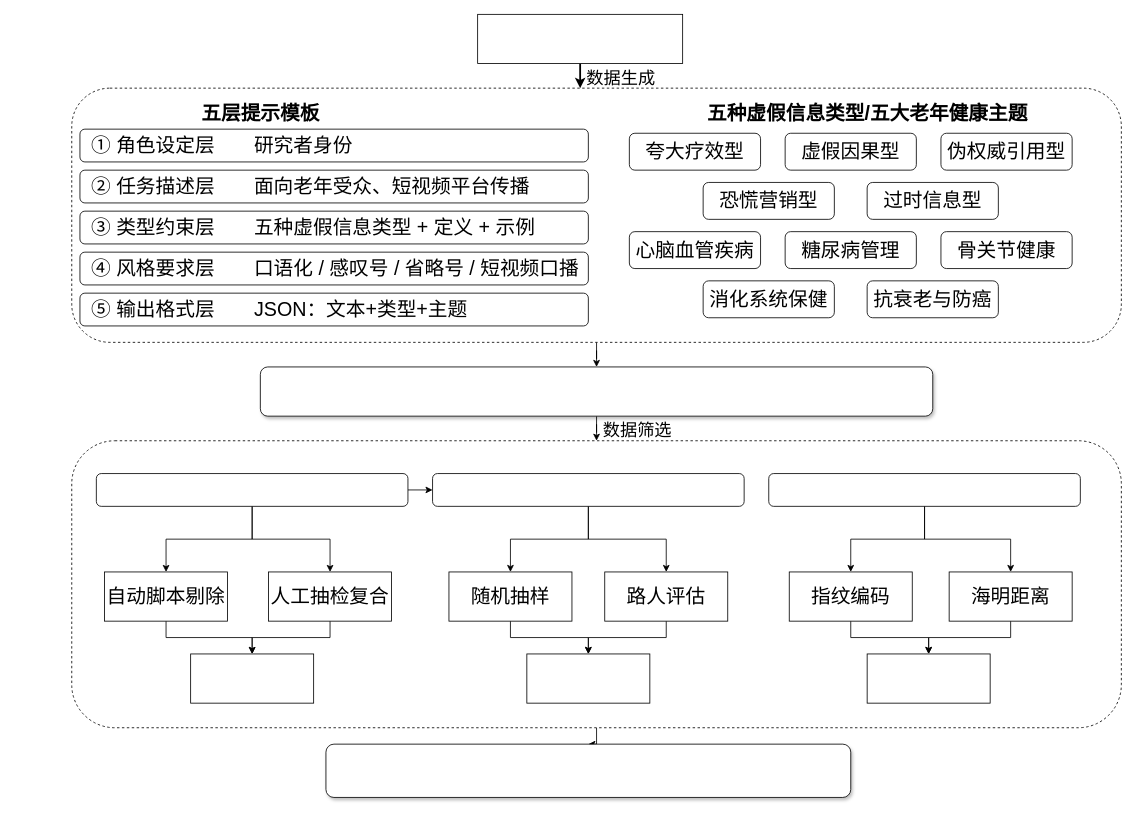
Some shapes in this 1136 by 818 pixel diagram are drawn without their labels. Here are the shapes that lost their labels. From the top down, the centre of each, then its label:
At pixel 580 39: "五种 LLM 生成源".
At pixel 597 392: "原 始 合 成 文 本 池".
At pixel 252 489: "① 内 容 有 效 性 筛 选".
At pixel 588 489: "② 欺 骗 性 评 估".
At pixel 924 489: "③ 多 样 性 评 估 与 去 重".
At pixel 252 678: "合规样本".
At pixel 588 678: "计算准确率".
At pixel 928 678: "多元数据".
At pixel 589 771: "合 成 样 本 集".
